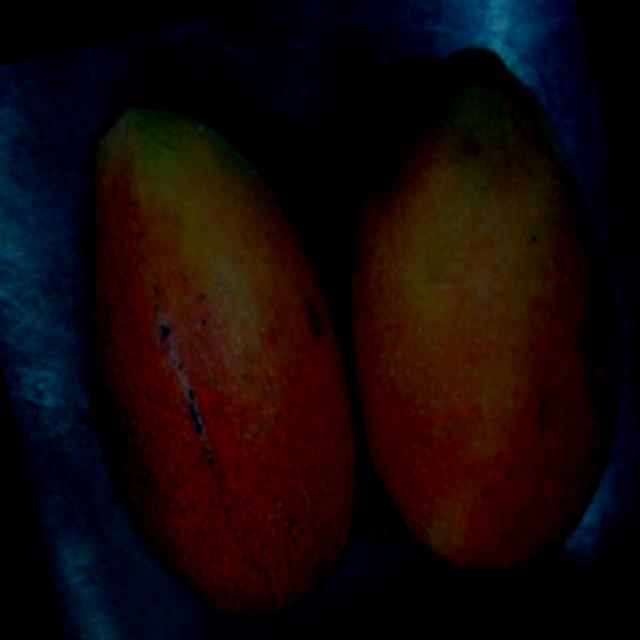Mango: (27, 78, 400, 640), (285, 25, 640, 598)
